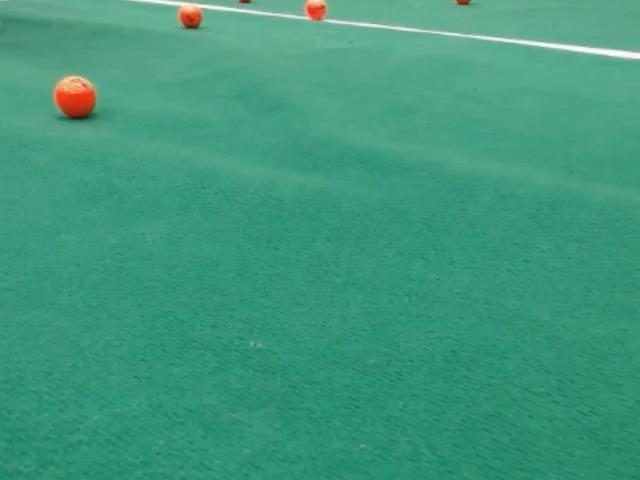Ball: (53, 76, 96, 118), (178, 4, 202, 28), (304, 0, 326, 20)
